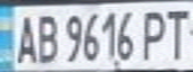1: (100, 7, 118, 61)
6: (115, 6, 142, 61), (81, 8, 103, 62)
9: (60, 10, 84, 63)
A: (9, 9, 39, 65)
B: (33, 9, 60, 64)
P: (139, 6, 172, 61)
T: (160, 5, 193, 62)
